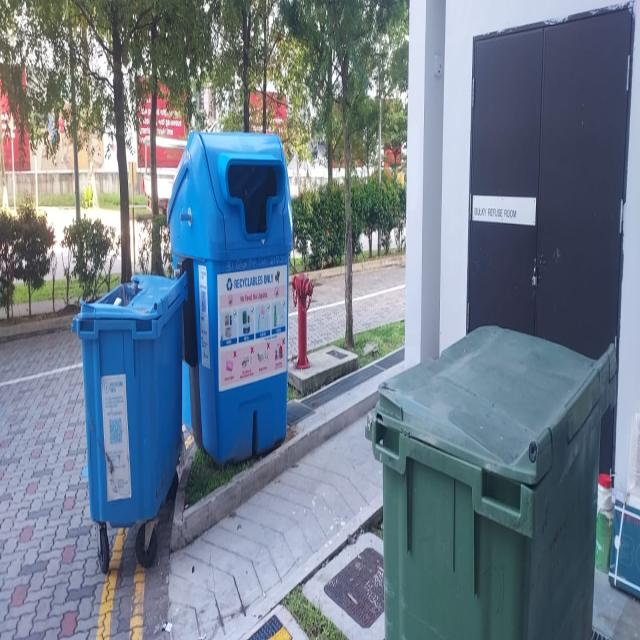bin_empty: (377, 318, 613, 638), (168, 128, 294, 468), (71, 266, 189, 570)
bulk_waste: (594, 422, 640, 608)
